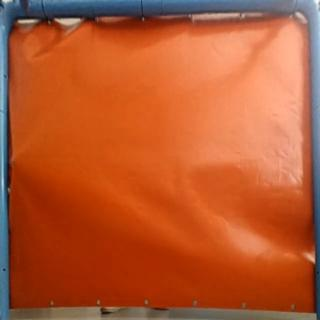Hit-hRxx: (8, 152, 20, 169)
